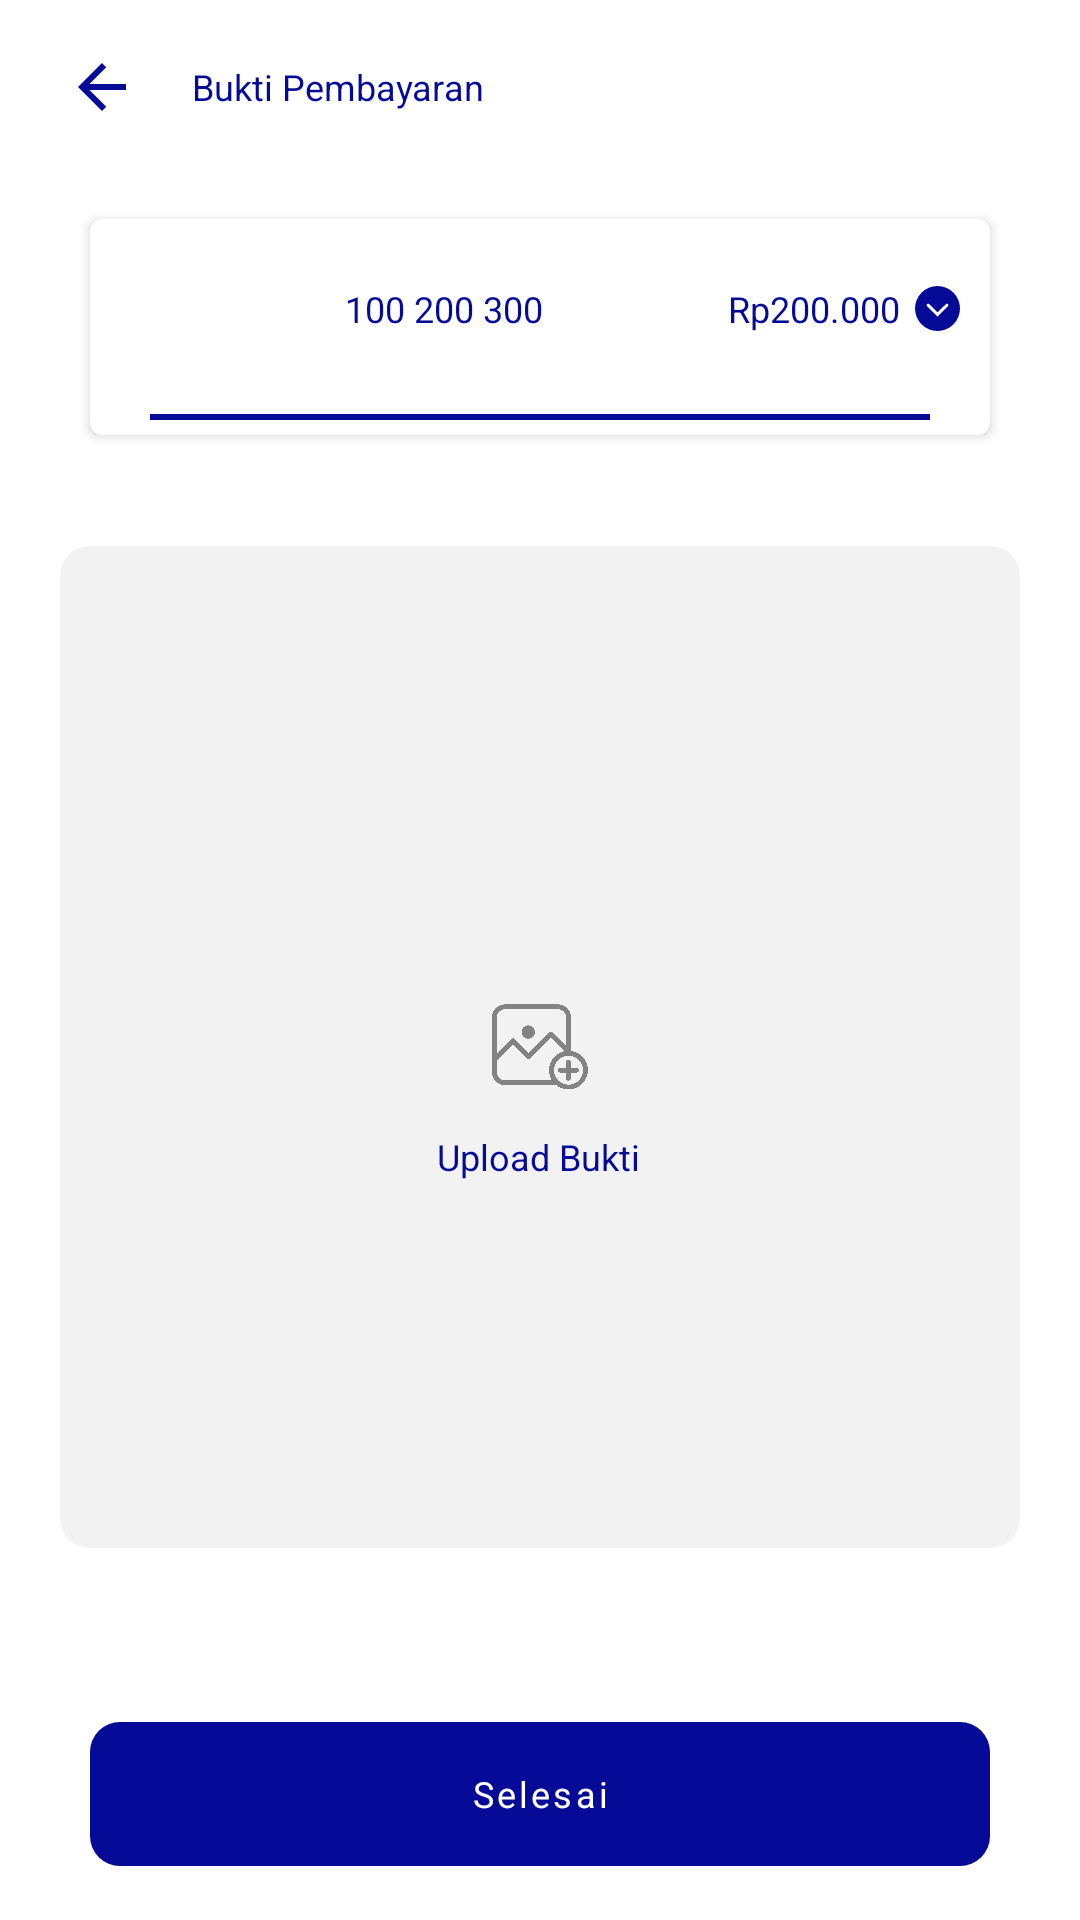

Named icons in this screenshot (1080*1920) and their bounding boxes, {"x1": x1, "y1": y1, "x2": x2, "y2": y2}:
back: {"x1": 78, "y1": 63, "x2": 126, "y2": 111}
expand: {"x1": 915, "y1": 286, "x2": 960, "y2": 331}
